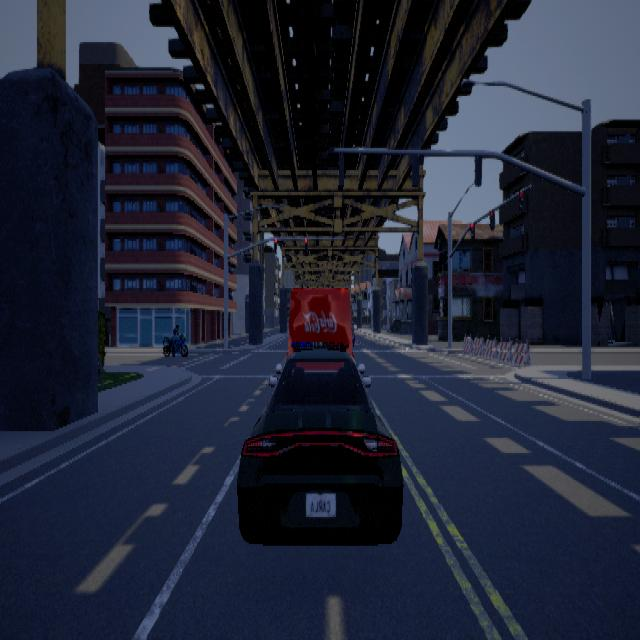motobike: (161, 322, 191, 360)
red_light: (520, 189, 527, 212), (490, 207, 496, 229), (471, 221, 476, 239), (275, 238, 278, 252), (306, 238, 309, 252)
vehicle: (235, 347, 405, 544), (281, 285, 355, 409)
